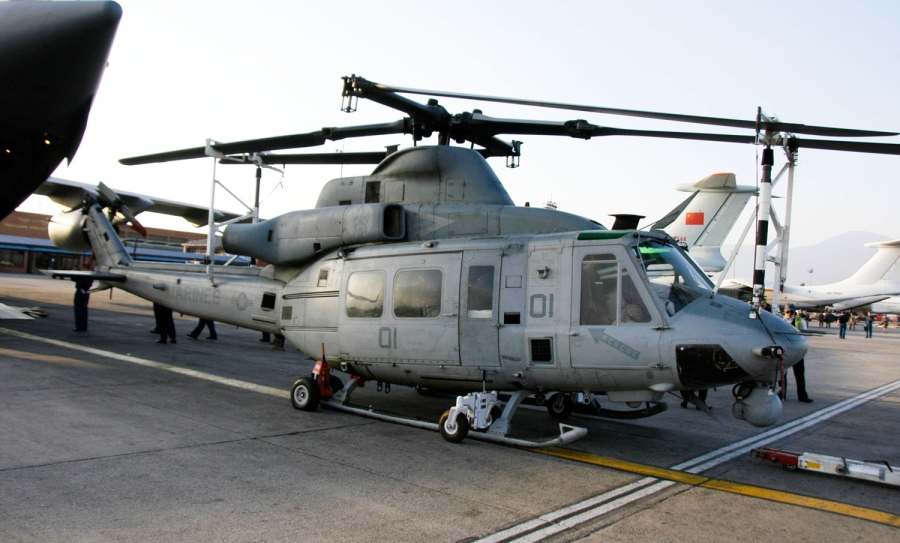MilitaryHelicopter: (87, 104, 823, 452)
